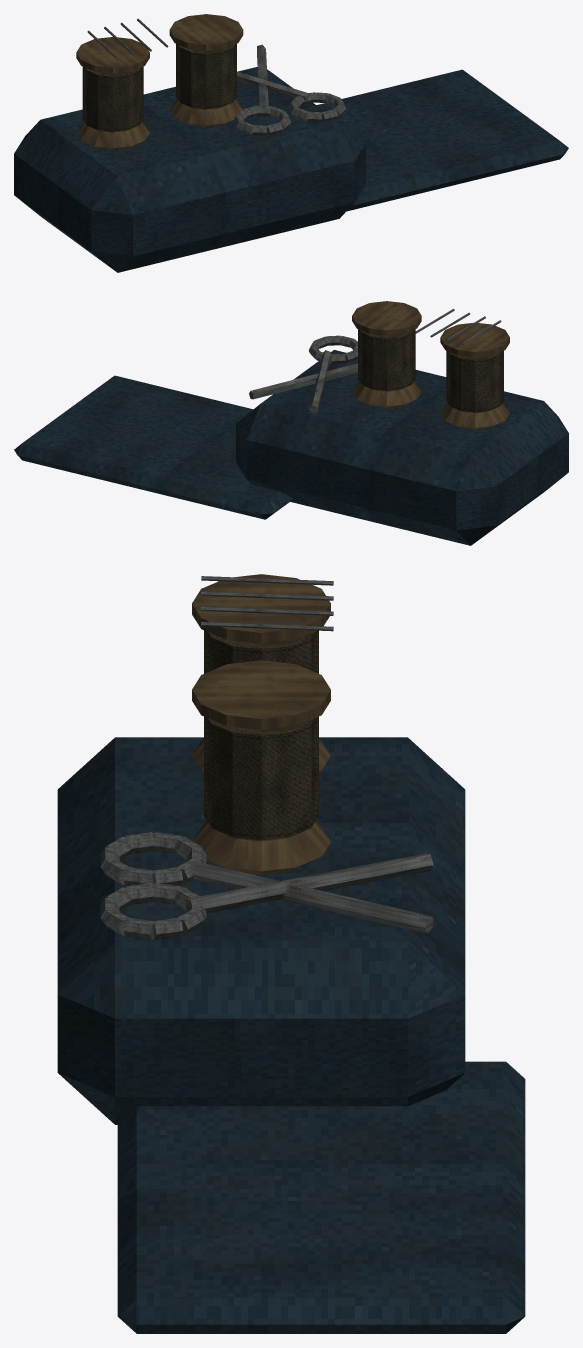
File: level_story_sewing_tin_worn.glb
3 renders of one model, top to bottom at view 1: azimuth 30°, elevation 25°; view 2: azimuth 150°, elevation 25°; view 3: azimuth 270°, elevation 25°, orthographic. The views are drawn at different scales.
Parts seen in each view (by area): view 1: level_story_sewing_tin_worn; view 2: level_story_sewing_tin_worn; view 3: level_story_sewing_tin_worn.
Boxes of the visible parts, x1=… form: level_story_sewing_tin_worn: x1=14, y1=14, x2=568, y2=272; level_story_sewing_tin_worn: x1=14, y1=301, x2=568, y2=545; level_story_sewing_tin_worn: x1=57, y1=574, x2=525, y2=1333.
Bounding box in the file's own units: 0.44 × 0.168 × 0.195.
4 materials, 4 textured.
